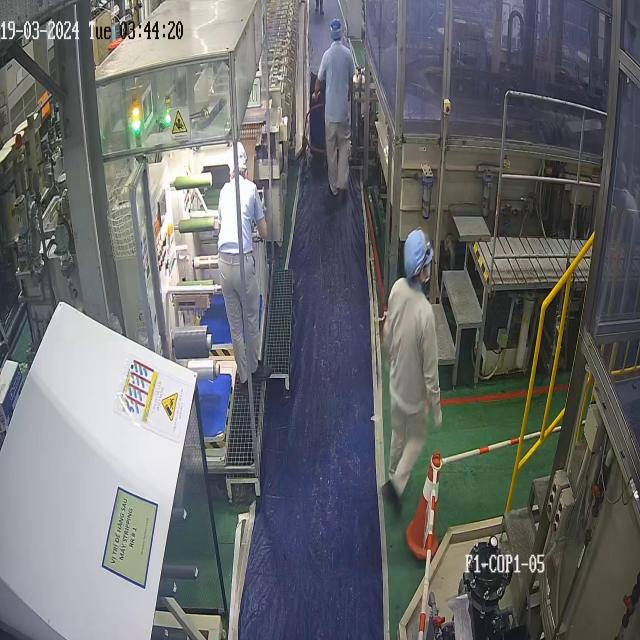Person: (381, 228, 442, 512), (213, 140, 268, 390), (313, 18, 355, 195)
